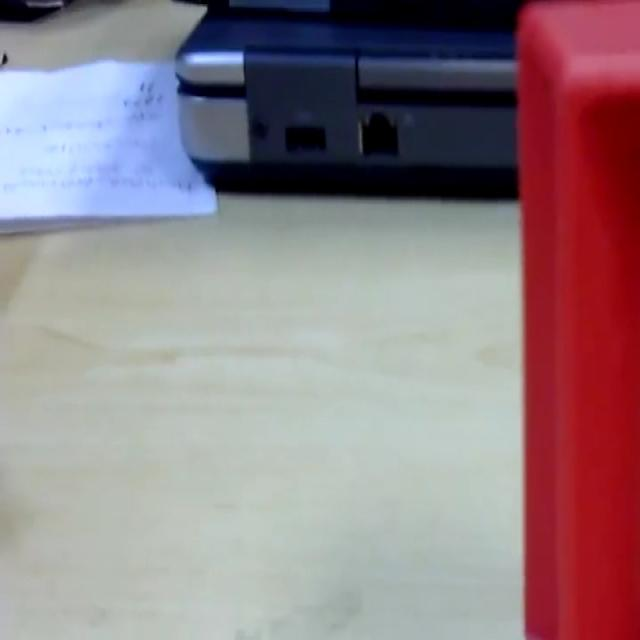red_block: (514, 1, 638, 636)
